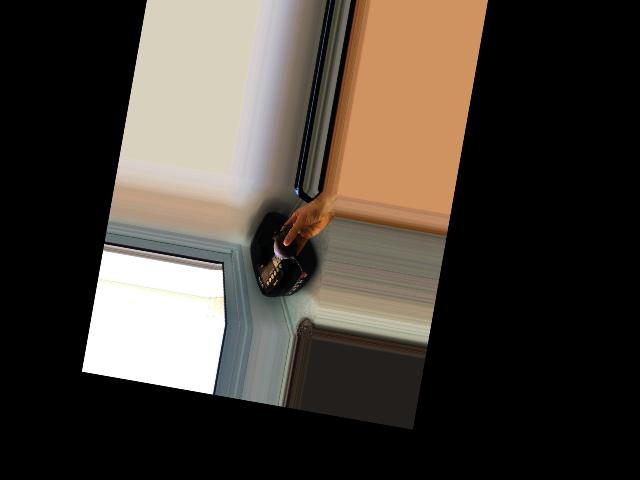beet: (267, 223, 310, 273)
